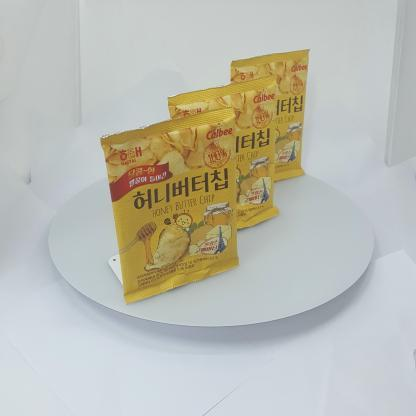Plastic Packaging: (93, 104, 237, 309), (230, 69, 282, 231), (270, 45, 314, 180)
